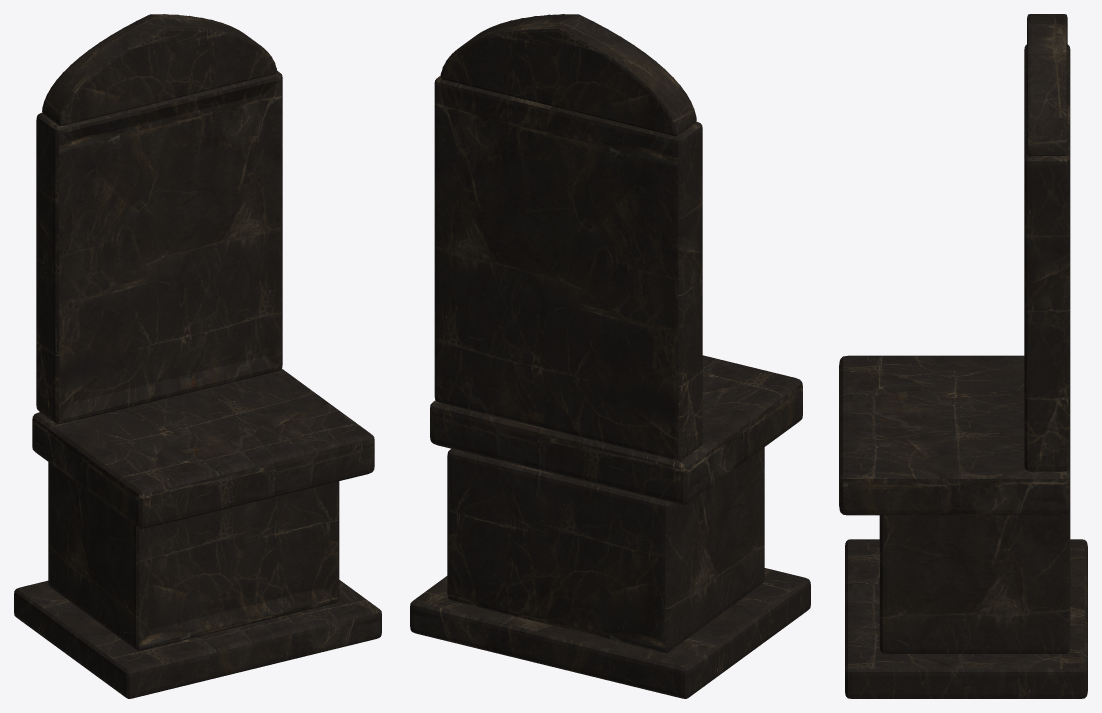
The model's file is sedia_pietra.glb.
3 renders of one model, left to right at view 1: azimuth 30°, elevation 25°; view 2: azimuth 150°, elevation 25°; view 3: azimuth 270°, elevation 25°, orthographic. The views are drawn at different scales.
Parts seen in each view (by area): view 1: sedia_pietra; view 2: sedia_pietra; view 3: sedia_pietra.
Part boxes in pixels (left/top/right/bottom): sedia_pietra: left=14, top=14, right=381, bottom=698; sedia_pietra: left=410, top=14, right=810, bottom=698; sedia_pietra: left=839, top=14, right=1087, bottom=698.
Size of the model in its own units: 0.54 by 1.17 by 0.43.
Materials: 1 (1 with a texture image).
